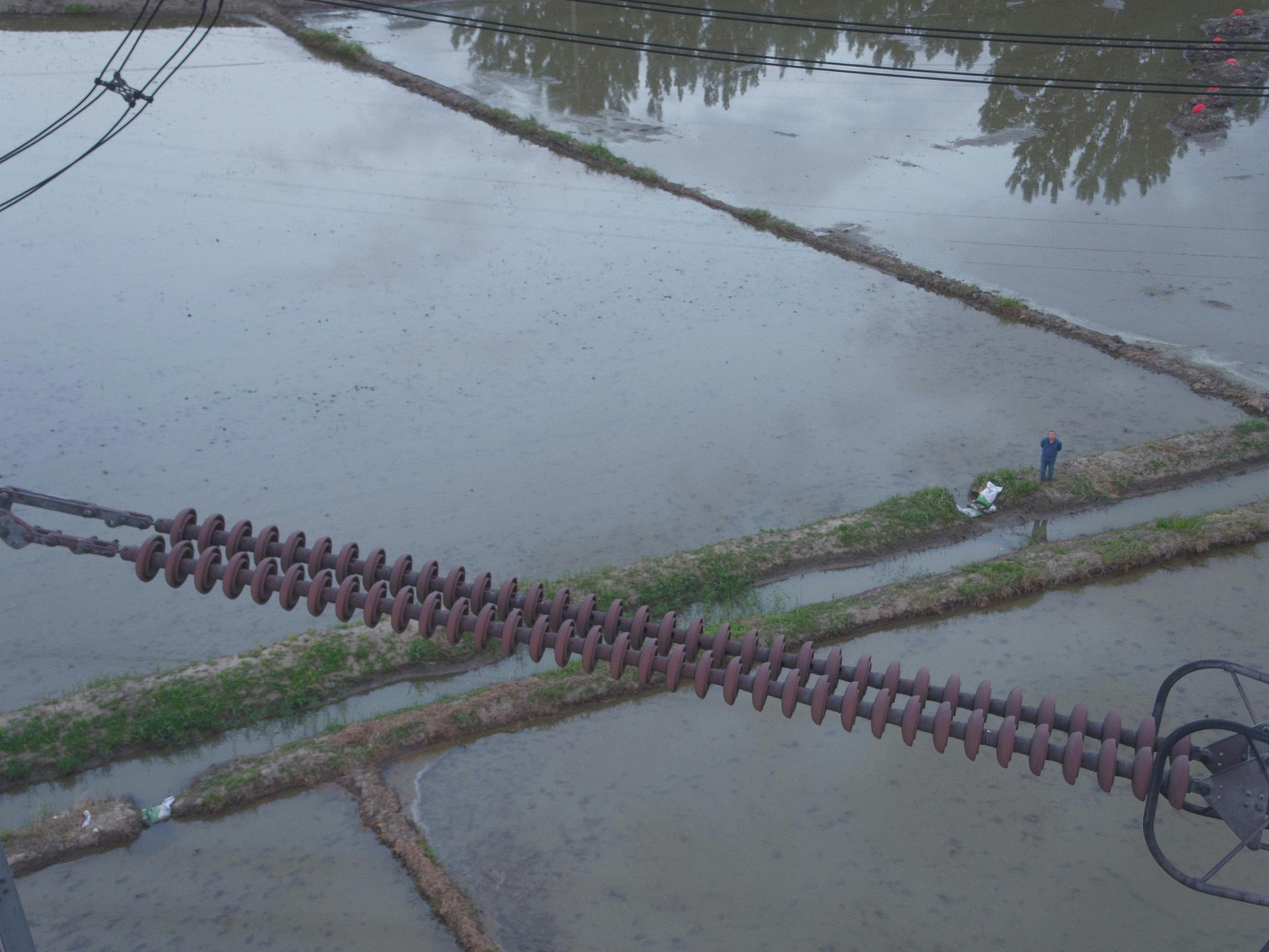insulator: (129, 505, 1195, 815)
